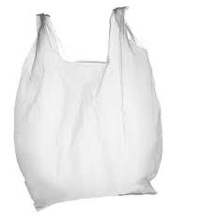plastic_bag: (10, 3, 168, 212)
